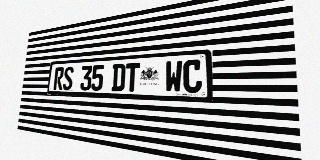3: (80, 65, 92, 91)
5: (91, 65, 104, 91)
C: (183, 59, 202, 93)
D: (111, 63, 126, 91)
R: (53, 67, 64, 90)
S: (62, 66, 74, 90)
T: (125, 63, 140, 92)
W: (165, 60, 183, 93)
